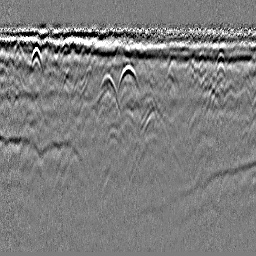cavity: (116, 60, 142, 95)
